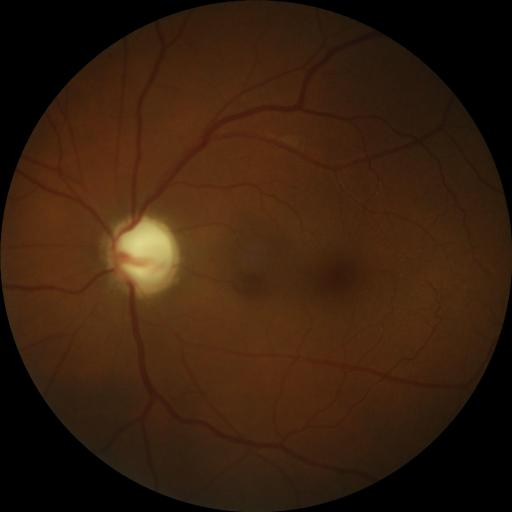Optic Disc: (106, 216, 178, 294)
